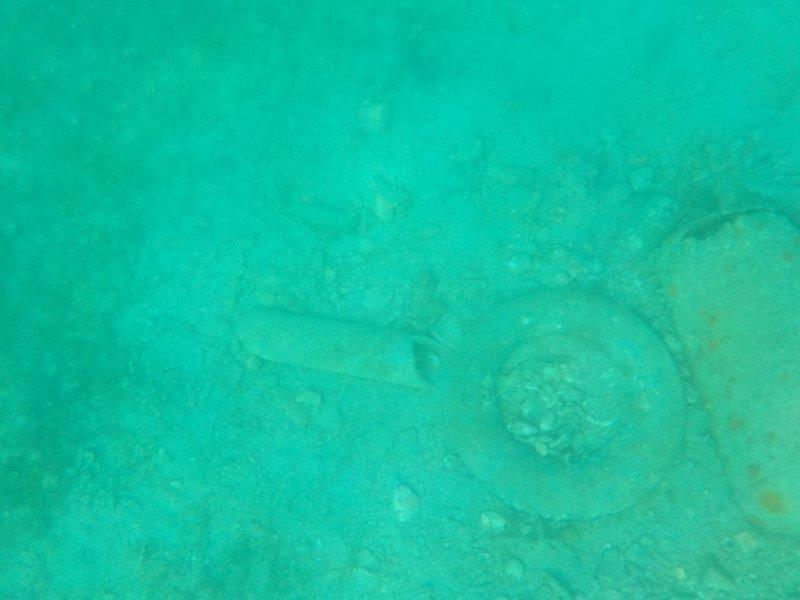bottle: (594, 187, 688, 289), (270, 195, 366, 238)
tire: (442, 281, 694, 524)
